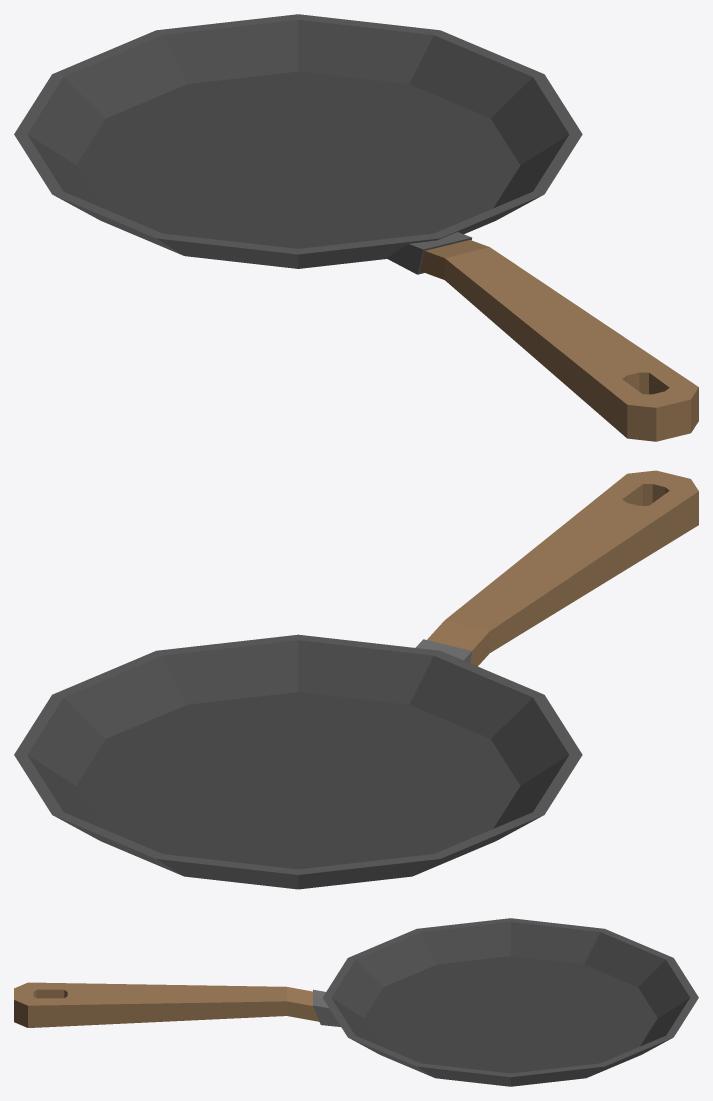
The model's file is Pan_07_C2.fbx.
3 renders of one model, top to bottom at view 1: azimuth 30°, elevation 25°; view 2: azimuth 150°, elevation 25°; view 3: azimuth 270°, elevation 25°, orthographic. The views are drawn at different scales.
Parts seen in each view (by area): view 1: Pan_07_C2; view 2: Pan_07_C2; view 3: Pan_07_C2.
Boxes of the visible parts, x1,y1,x2,y2 form: Pan_07_C2: (14, 14, 698, 441); Pan_07_C2: (14, 470, 698, 889); Pan_07_C2: (14, 918, 698, 1086).
Size of the model in its own units: 27.92 by 2.36 by 50.82.
